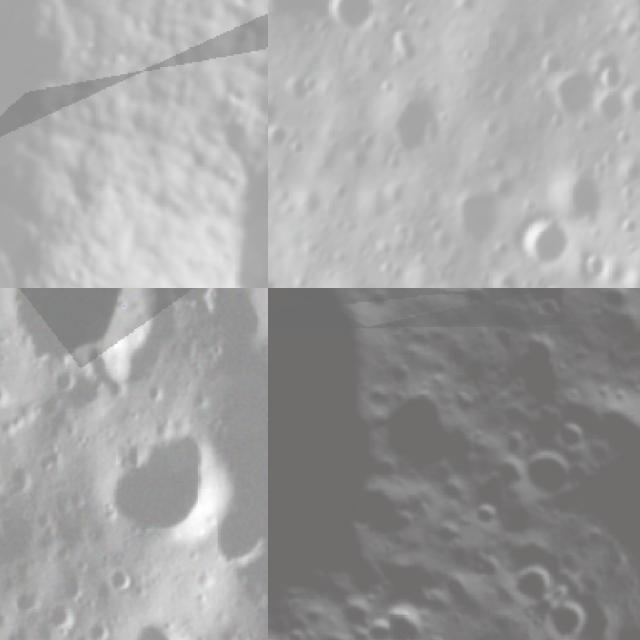crater: (189, 37, 268, 288), (97, 419, 226, 558), (0, 288, 145, 390), (516, 440, 592, 514), (508, 546, 580, 618), (369, 591, 444, 640), (392, 94, 441, 158), (450, 185, 499, 246), (522, 214, 570, 267), (548, 71, 594, 124), (547, 171, 599, 217), (315, 0, 386, 33), (126, 610, 203, 640), (560, 415, 605, 459), (104, 562, 138, 598), (594, 55, 626, 91), (165, 288, 221, 308), (392, 30, 416, 70), (582, 244, 609, 278), (16, 582, 42, 616), (48, 603, 78, 632), (494, 79, 520, 112), (601, 90, 625, 125), (293, 73, 324, 95), (62, 574, 88, 600), (616, 263, 640, 288), (624, 81, 640, 118), (613, 127, 638, 150), (87, 615, 108, 640), (493, 274, 528, 288), (268, 127, 290, 149), (619, 215, 640, 236), (398, 1, 418, 22), (285, 141, 307, 156), (268, 101, 282, 122), (491, 154, 503, 175), (268, 276, 279, 288)
